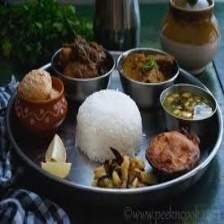sabzi: (54, 36, 114, 77)
